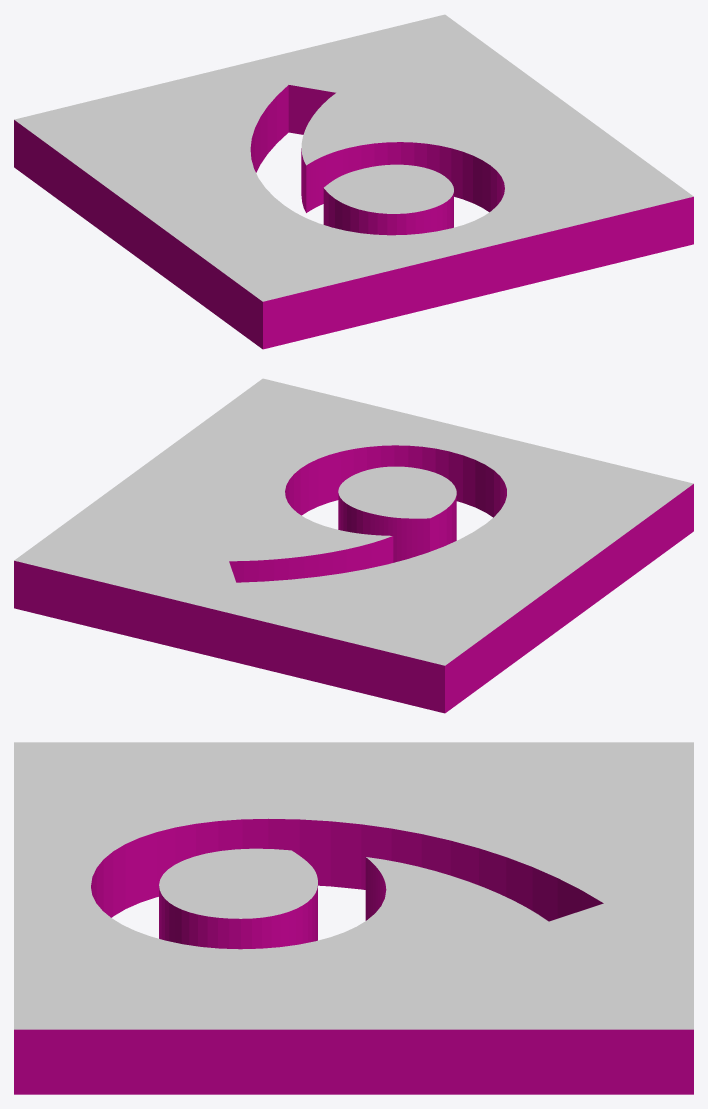
File: stracout6.fbx
3 views of the same model, one above another, from view 1: azimuth 30°, elevation 25°; view 2: azimuth 150°, elevation 25°; view 3: azimuth 270°, elevation 25° (orthographic). The views are drawn at different scales.
Parts seen in each view (by area): view 1: 6; view 2: 6; view 3: 6.
Part boxes in pixels (<box>): 6: <box>14,14,693,349</box>; 6: <box>14,378,693,713</box>; 6: <box>14,742,693,1094</box>.
Size of the model in its own units: 464 by 49.06 by 464.
